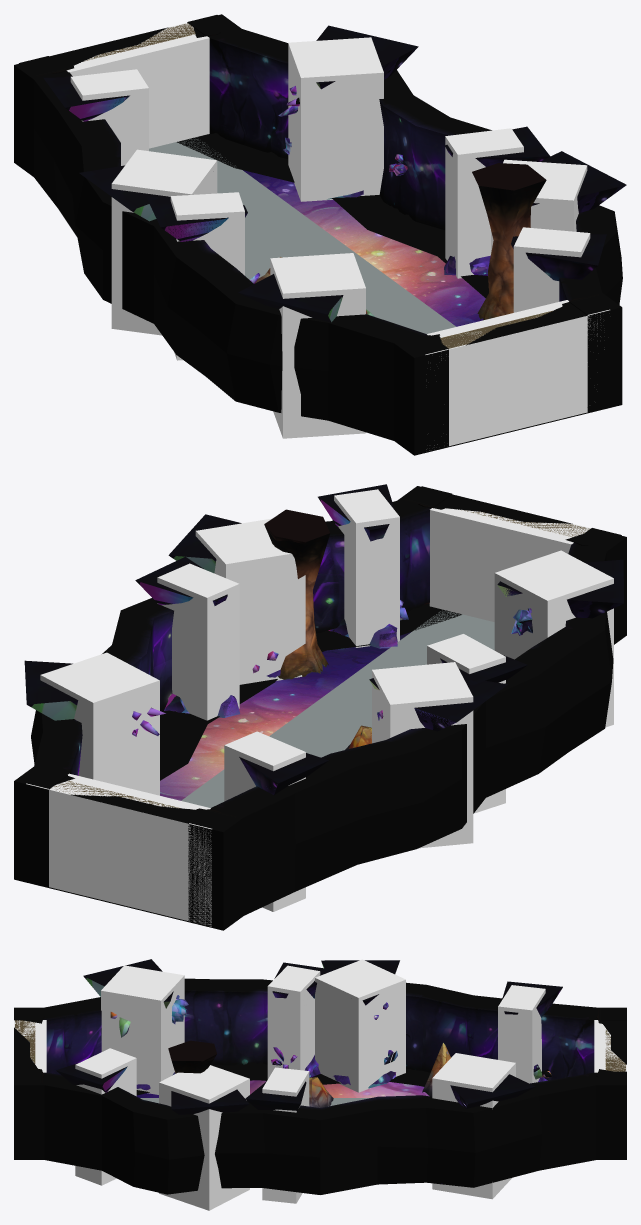
File: Dungeon_101_Road_002_Item.fbx
The picture shows the model from 3 angles, top to bottom: view 1: azimuth 30°, elevation 25°; view 2: azimuth 150°, elevation 25°; view 3: azimuth 270°, elevation 25°; orthographic projection. The views are drawn at different scales.
Parts seen in each view (by area): view 1: Dun_101_Road_002_wall, DoorWay_NavMask (1) (×3), Cube_08, Dun_101_Road_002_Object02 (×2), Quad_Nav_SP, Dun_101_Road_002_ground, Cube_01, Cube_04, Cube_02, Dun_101_Road_002_shadow, Dungeon_011_Object_010, Dun_011_Door_002_old (×2) (+5 smaller); view 2: Dun_101_Road_002_wall, DoorWay_NavMask (1) (×3), Dun_101_Road_002_Object02 (×2), Cube_08, Cube_07, Cube_04, Quad_Nav_SP, Dun_101_Road_002_ground, Cube_03, Cube_01, Cube_02, Dun_011_Door_002_old (×2) (+7 smaller); view 3: Dun_101_Road_002_wall, Cube_02, Dun_101_Road_002_Object02 (×2), Cube_01, Cube_07, Cube_05, Cube_06, Cube_08, Dun_011_Door_002_old (×2), Cube_03, Cube_04, DoorWay_NavMask (1) (×2) (+7 smaller).
Boxes of the visible parts, <box> form: Dun_101_Road_002_wall: <box>14,14,622,455</box>; DoorWay_NavMask (1) (×3): <box>66,23,609,450</box>; Cube_08: <box>288,37,383,201</box>; Dun_101_Road_002_Object02 (×2): <box>43,25,626,322</box>; Quad_Nav_SP: <box>149,137,456,333</box>; Dun_101_Road_002_ground: <box>243,170,485,326</box>; Cube_01: <box>270,253,365,438</box>; Cube_04: <box>445,128,523,278</box>; Cube_02: <box>111,149,217,335</box>; Dun_101_Road_002_shadow: <box>177,133,488,298</box>; Dungeon_011_Object_010: <box>472,163,546,320</box>; Dun_011_Door_002_old (×2): <box>19,15,616,355</box>; Dun_101_Road_002_wall: <box>14,486,626,930</box>; DoorWay_NavMask (1) (×3): <box>26,508,590,926</box>; Dun_101_Road_002_Object02 (×2): <box>24,484,623,794</box>; Cube_08: <box>40,652,159,795</box>; Cube_07: <box>195,518,305,684</box>; Cube_04: <box>157,563,239,720</box>; Quad_Nav_SP: <box>181,610,494,807</box>; Dun_101_Road_002_ground: <box>160,632,410,800</box>; Cube_03: <box>334,489,399,647</box>; Cube_01: <box>494,550,613,727</box>; Cube_02: <box>372,662,473,848</box>; Dun_011_Door_002_old (×2): <box>19,486,621,867</box>; Dun_101_Road_002_wall: <box>14,978,626,1194</box>; Cube_02: <box>315,959,405,1092</box>; Dun_101_Road_002_Object02 (×2): <box>56,959,562,1183</box>; Cube_01: <box>101,965,184,1094</box>; Cube_07: <box>159,1065,249,1210</box>; Cube_05: <box>267,965,320,1079</box>; Cube_06: <box>498,985,545,1083</box>; Cube_08: <box>432,1053,515,1199</box>; Dun_011_Door_002_old (×2): <box>14,1008,626,1082</box>; Cube_03: <box>75,1048,136,1185</box>; Cube_04: <box>262,1067,309,1203</box>; DoorWay_NavMask (1) (×2): <box>14,1020,626,1072</box>.
Size of what is drawn, in the model's own units: 8.7 by 3.4 by 15.
